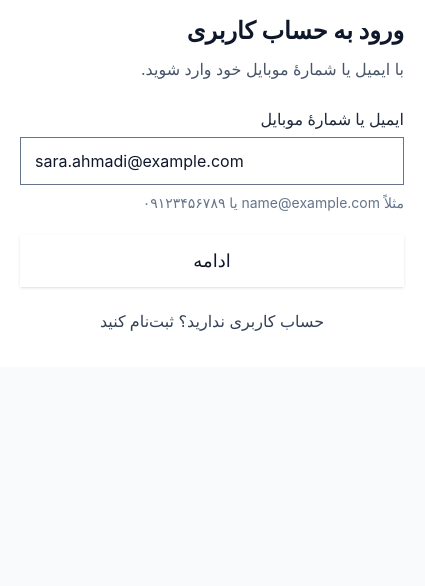
Test case: the one-time code step › a 429 on the send shows its detail and waits retry_after seconds; the form stays usable
Later steps or results of the test are not shown.
Click the button "ادامه". click: click(212, 261)
box: [20, 235, 404, 287]
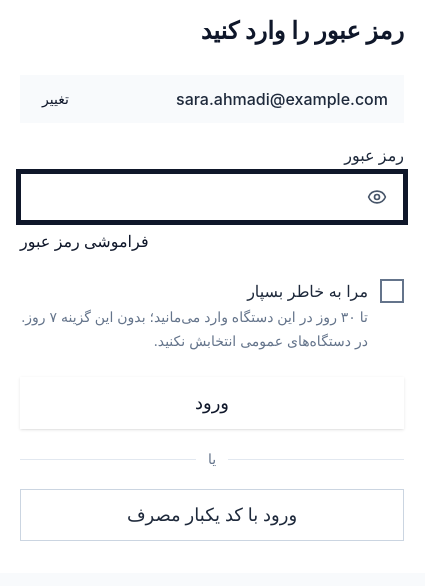
Click the button "ورود با کد یکبار مصرف". click: click(212, 515)
box: [20, 489, 404, 541]
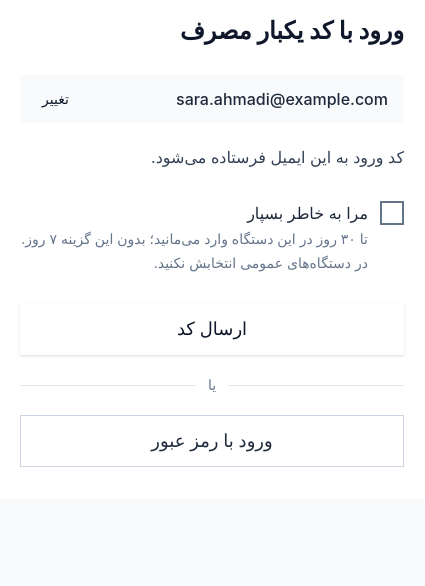
Expected: the heading "ورود با کد یکبار مصرف" is shown, [180, 16, 404, 45]
Click the button "ارسال کد". click: click(212, 329)
box: [20, 303, 404, 355]
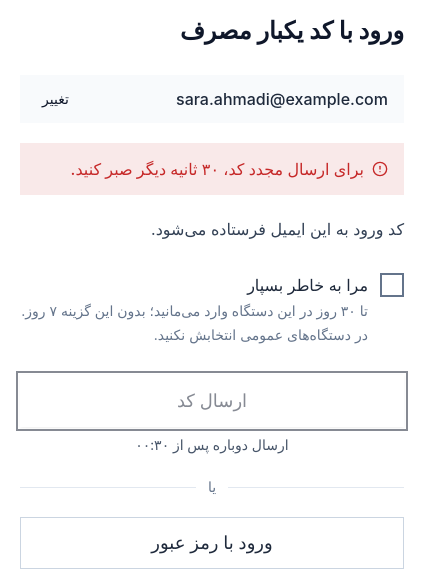
Expected: the message reads "برای ارسال مجدد کد، ۳۰ ثانیه دیگر صبر کنید.", [70, 159, 364, 179]
Click the button "ارسال کد". click: click(212, 401)
box: [20, 375, 404, 427]
Wait 30000 ms
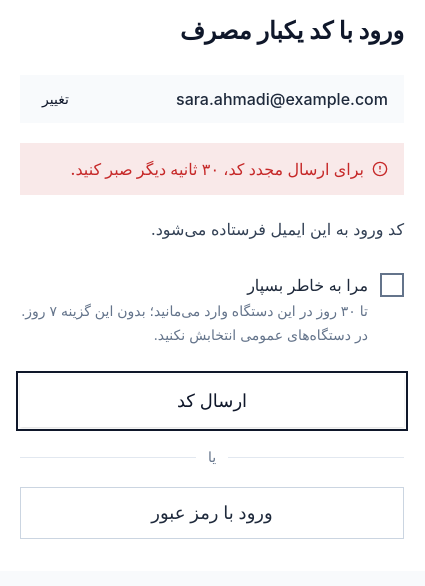
Expected: the button "ورود با رمز عبور" is enabled, [20, 487, 404, 539]
